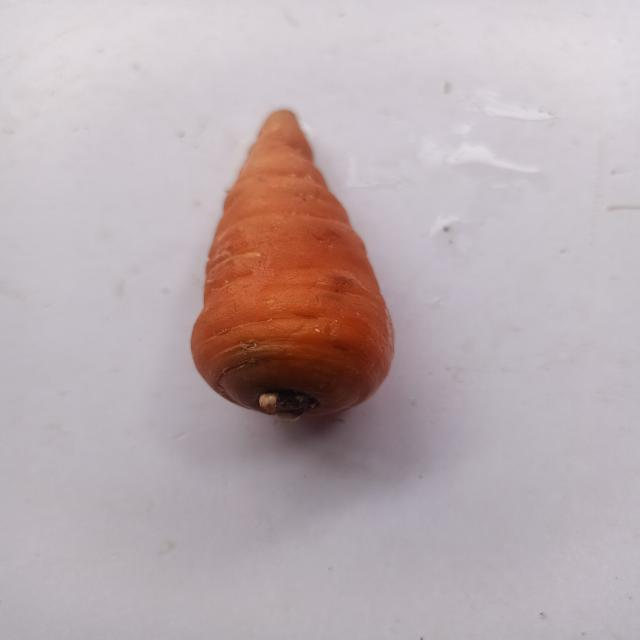Carrot: (184, 92, 420, 441)
